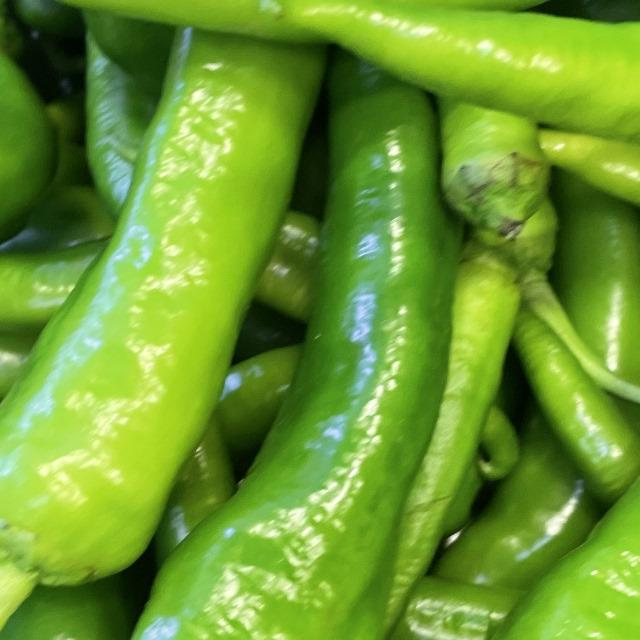chili_pepper: (0, 20, 467, 640)
